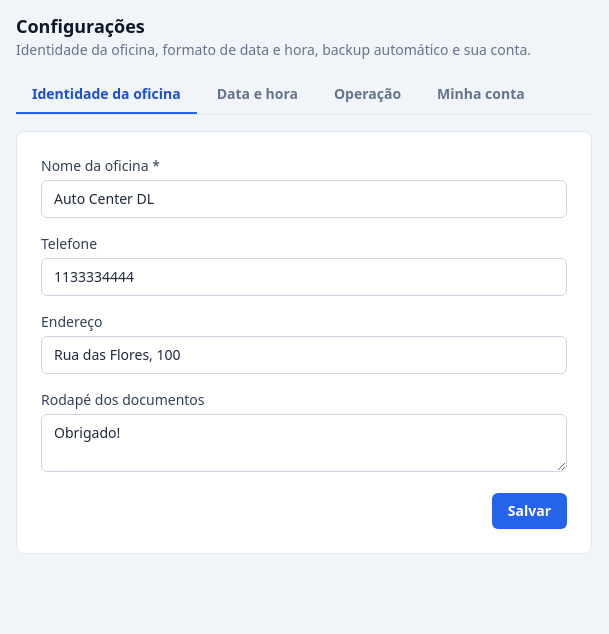
SettingsPage tabs (2026-09-18) › rejects an out-of-range backup interval
Click the tab "Operação" at (368, 95), box [318,76,417,114]
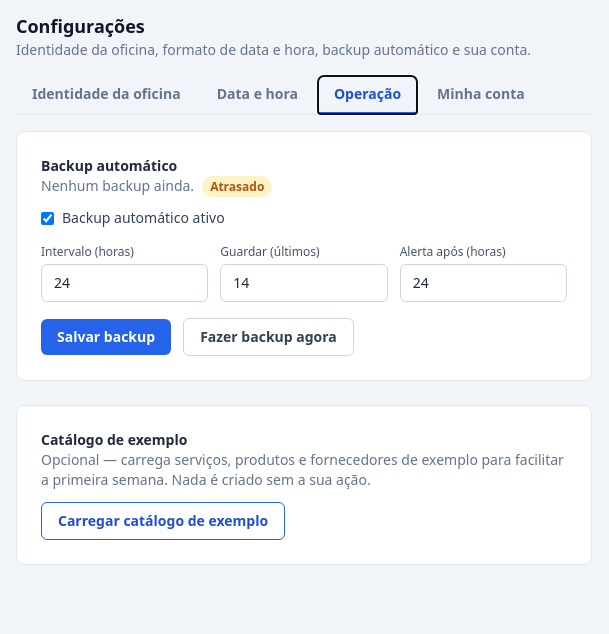
Replace the text in the field labelled "Intervalo (horas)" with "0" at (125, 283), box [41,264,208,302]
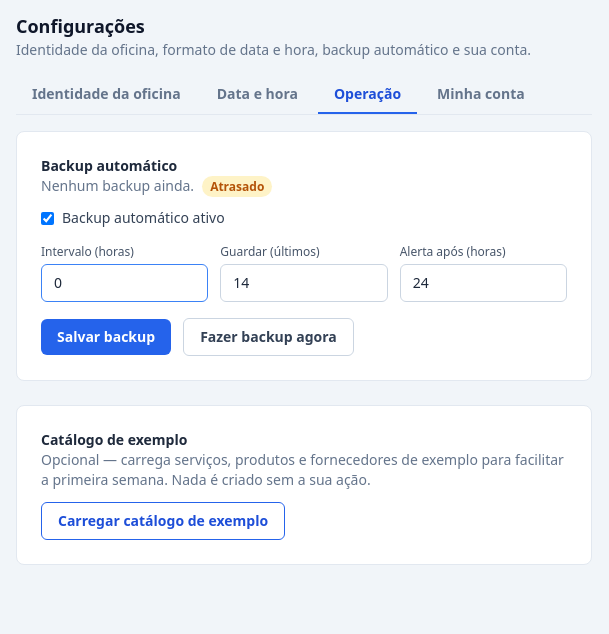
Click the button "Salvar backup" at (106, 337), box [41,319,171,355]
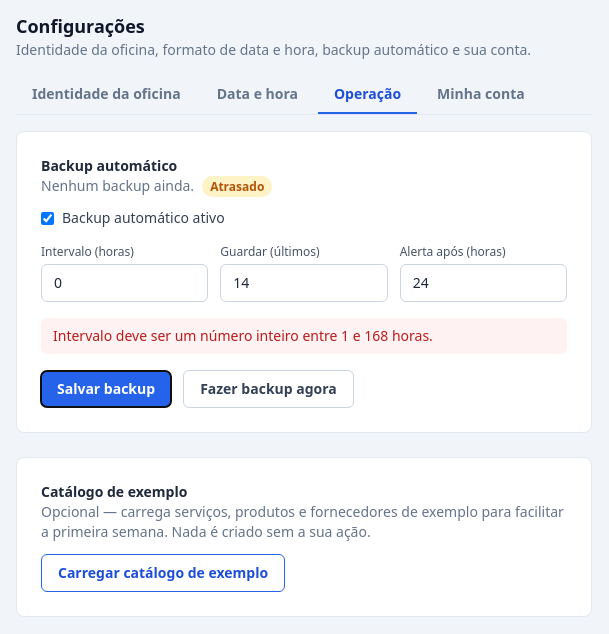
Result: the text "Intervalo deve ser um número inteiro entre 1 e 168 horas." is shown at [41,318,567,354]
